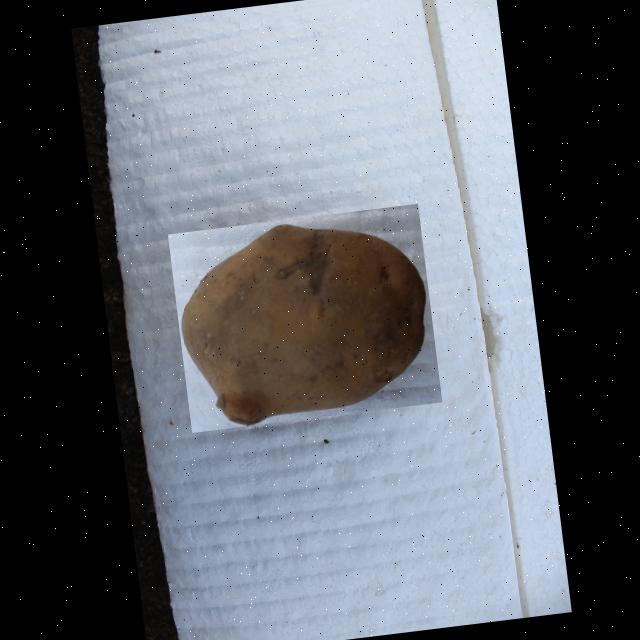Diseased-fungal potato: (167, 204, 440, 432)
